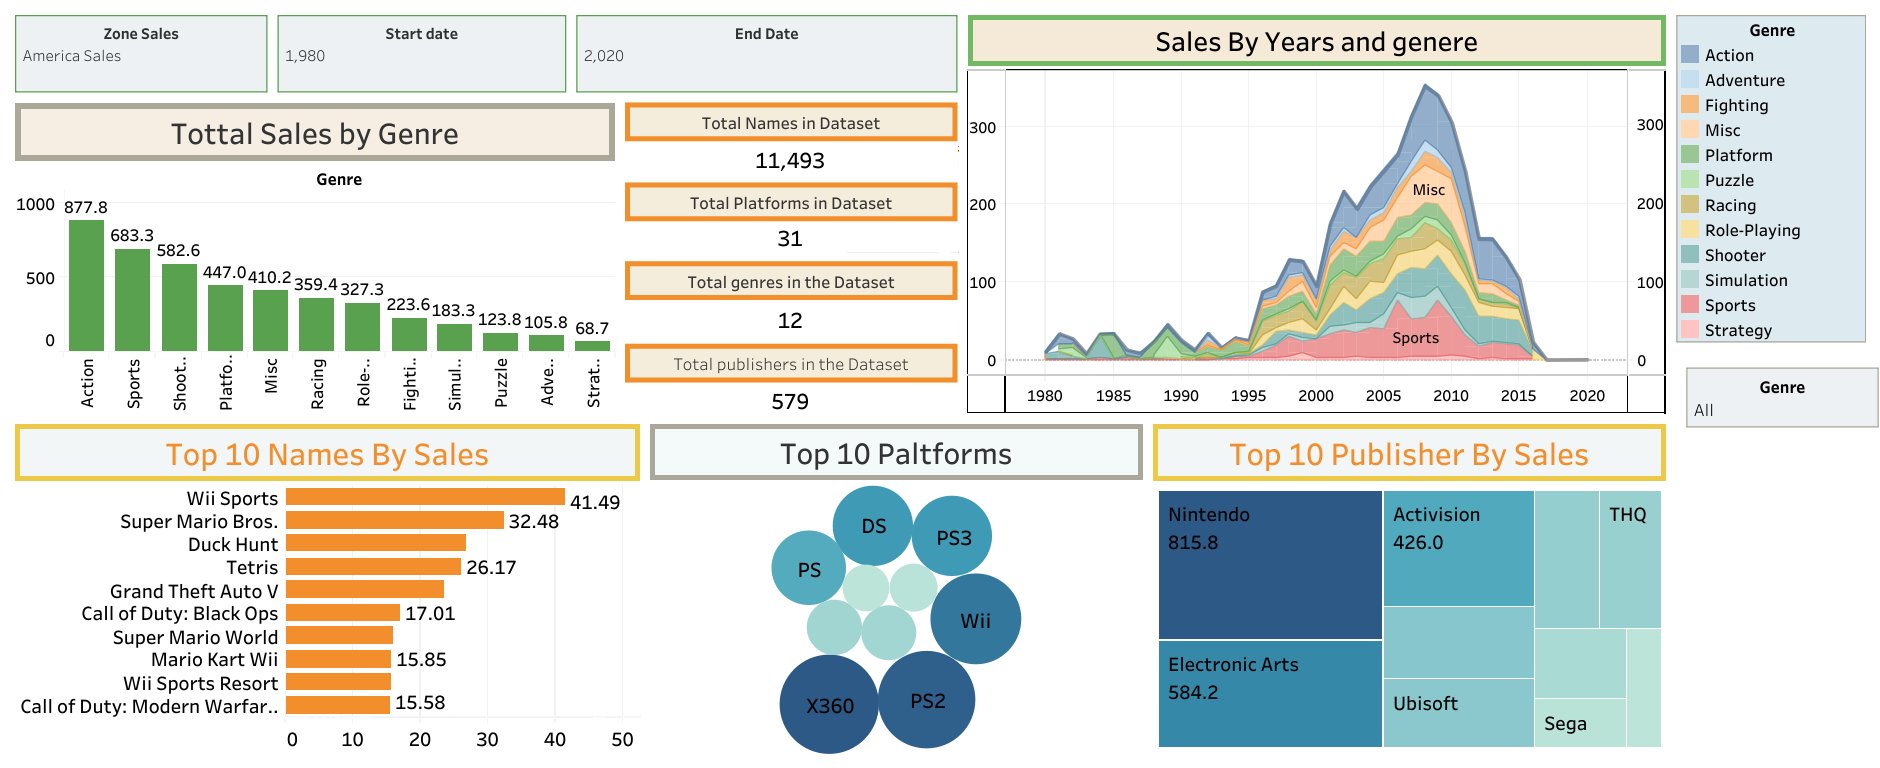

Layout of this report page (visuals, bound fields, positions):
{"tool":"tableau","page":{"name":"Dashboard 1","canvas":[1000,1000],"units":"permille","ordinal":0},"visuals":[{"type":"parameter","param":"[Parameters].[Parameter 1]","box":[4.9,10,141.2,114.6]},{"type":"parameter","param":"[Parameters].[Parameter 2]","box":[146,10,160.9,114.6]},{"type":"parameter","param":"[Parameters].[Parameter 3]","box":[306.9,10,210.3,114.6]},{"type":"worksheet","title":"Sales By Years and genere","mark":"Automatic","rows":["Calculation_5132977738673930241","Calculation_5132977738673930241"],"cols":["Year"],"box":[517.2,10,381,535.5]},{"type":"legend","title":"Sales By Years and genere","param":"[federated.0n1n2c615clrkv16gjz8d0sziaey].[none:Genre:nk]","box":[898.2,10,97,401.5]},{"type":"worksheet","title":"Tottal Sales by Genre","mark":"Automatic","rows":["Calculation_5132977738673930241"],"cols":["Genre"],"box":[4.9,124.5,328.3,420.9]},{"type":"worksheet","title":"Total Names in Dataset","mark":"Automatic","box":[333.2,124.5,184,104.5]},{"type":"worksheet","title":"Total Platforms in Dataset","mark":"Automatic","box":[333.2,229,184,103.8]},{"type":"worksheet","title":"Total genres in the Dataset","mark":"Automatic","box":[333.2,332.8,184,107.6]},{"type":"worksheet","title":"Total publishers in the Dataset","mark":"Automatic","box":[333.2,440.4,184,105]},{"type":"filter","title":"Sales By Years and genere","param":"[federated.0n1n2c615clrkv16gjz8d0sziaey].[none:Genre:nk]","box":[896.1,477.6,102.6,78.1]},{"type":"worksheet","title":"Top 10 Names By Sales","mark":"Automatic","rows":["Name"],"cols":["Calculation_5132977738673930241"],"box":[4.9,545.5,341.8,444.6]},{"type":"worksheet","title":"Top 10 Paltforms","mark":"Circle","box":[346.6,545.5,269.6,444.6]},{"type":"worksheet","title":"Top 10 Publisher By Sales","mark":"Automatic","box":[616.3,545.5,281.9,444.6]}]}

Visuals, with their boxes on the dashboard's canvas, which has no fixed pixel size, in thousandths of its width and height (x1, y1, x2, y2). These are canvas units, not pixel positions in the 1880x768 screenshot, which may show the page scaled, cropped or inside an application window:
parameter: bbox(5, 10, 146, 125)
parameter: bbox(146, 10, 307, 125)
parameter: bbox(307, 10, 517, 125)
"Sales By Years and genere" worksheet: bbox(517, 10, 898, 546)
"Sales By Years and genere" legend: bbox(898, 10, 995, 412)
"Tottal Sales by Genre" worksheet: bbox(5, 124, 333, 545)
"Total Names in Dataset" worksheet: bbox(333, 124, 517, 229)
"Total Platforms in Dataset" worksheet: bbox(333, 229, 517, 333)
"Total genres in the Dataset" worksheet: bbox(333, 333, 517, 440)
"Total publishers in the Dataset" worksheet: bbox(333, 440, 517, 545)
"Sales By Years and genere" filter: bbox(896, 478, 999, 556)
"Top 10 Names By Sales" worksheet: bbox(5, 546, 347, 990)
"Top 10 Paltforms" worksheet (Circle marks): bbox(347, 546, 616, 990)
"Top 10 Publisher By Sales" worksheet: bbox(616, 546, 898, 990)
